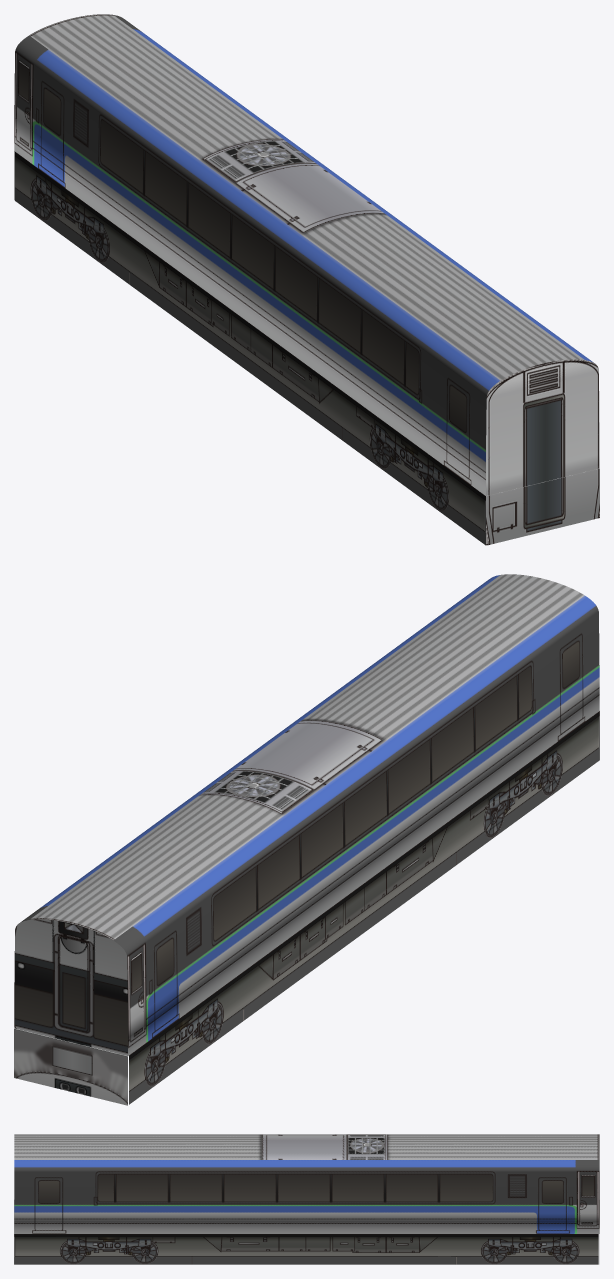
File: car2.glb
The picture shows the model from 3 angles, top to bottom: view 1: azimuth 30°, elevation 25°; view 2: azimuth 150°, elevation 25°; view 3: azimuth 270°, elevation 25°; orthographic projection. The views are drawn at different scales.
Parts seen in each view (by area): view 1: jr-hokkaido-785-car2; view 2: jr-hokkaido-785-car2; view 3: jr-hokkaido-785-car2.
Part boxes in pixels (x1=…): jr-hokkaido-785-car2: x1=14, y1=14, x2=599, y2=545; jr-hokkaido-785-car2: x1=14, y1=574, x2=599, y2=1105; jr-hokkaido-785-car2: x1=14, y1=1134, x2=599, y2=1264.
Bounding box in the file's own units: 2.9 × 4.09 × 20.83.
Materials: 9 (8 with a texture image).
